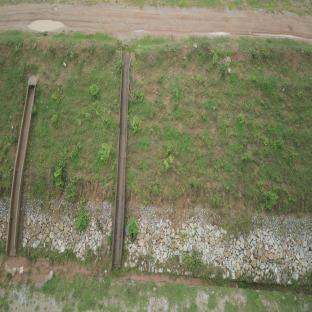rock_toe: (126, 206, 311, 280), (19, 195, 113, 266)
slope_drain: (6, 76, 38, 256), (112, 55, 131, 268)
toe_drain: (0, 253, 311, 296)
